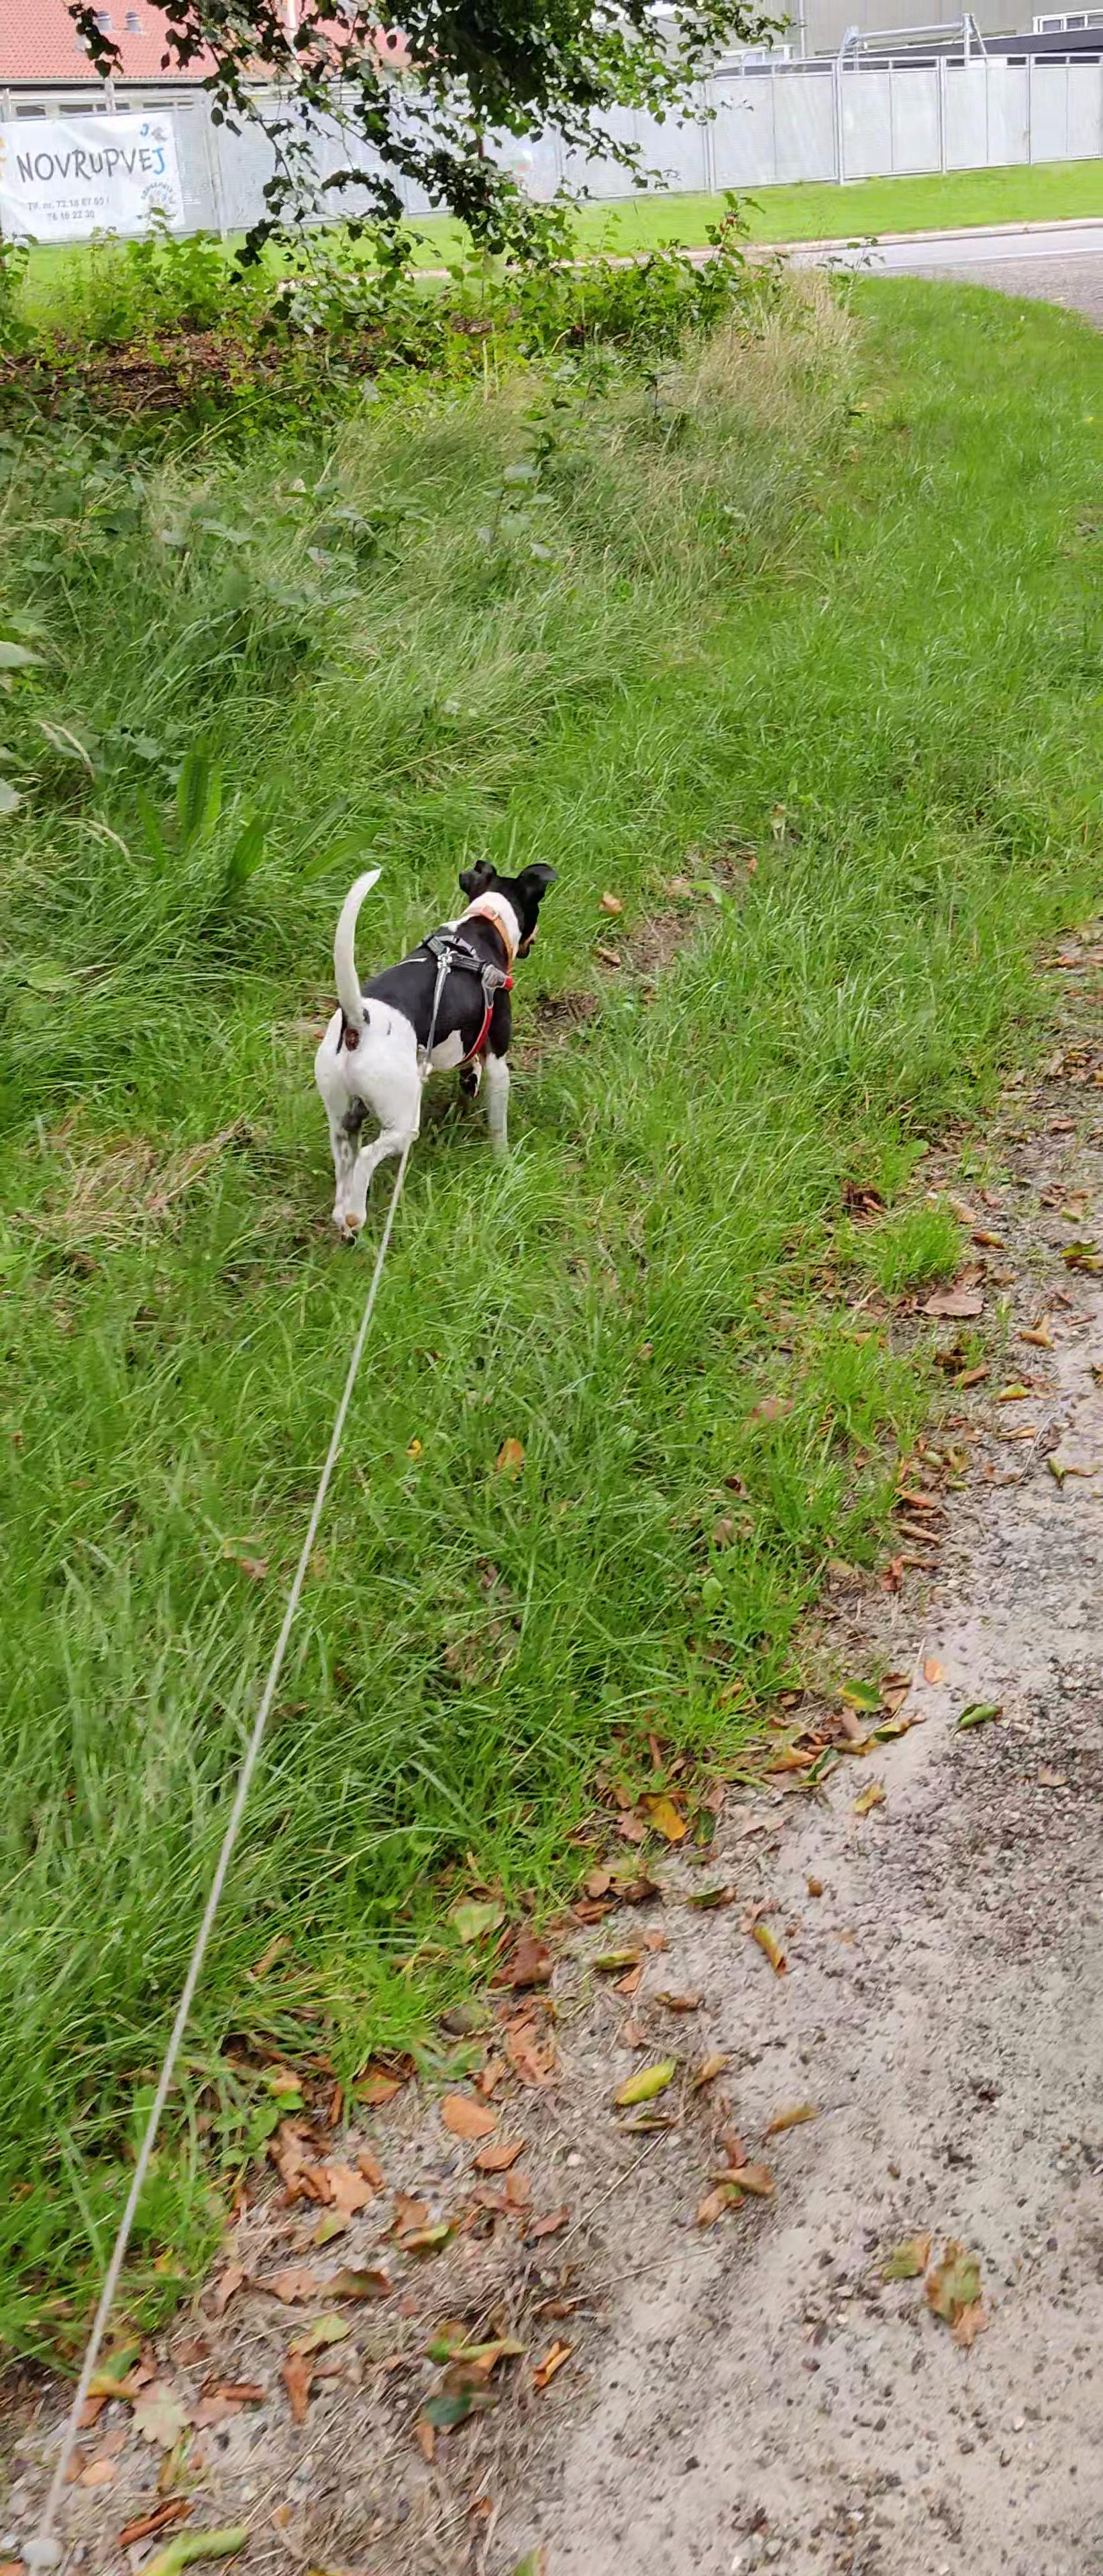Dog: (302, 849, 570, 1252)
